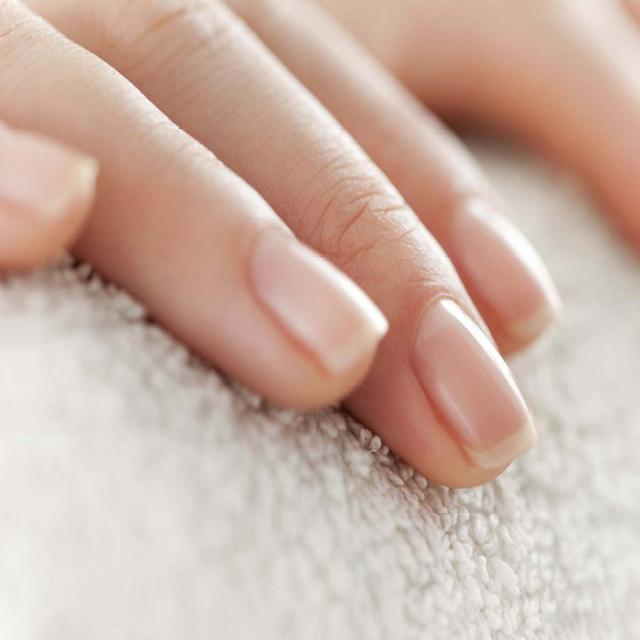Nail: (411, 297, 537, 466), (252, 230, 391, 372), (452, 201, 565, 342), (0, 122, 98, 220)
